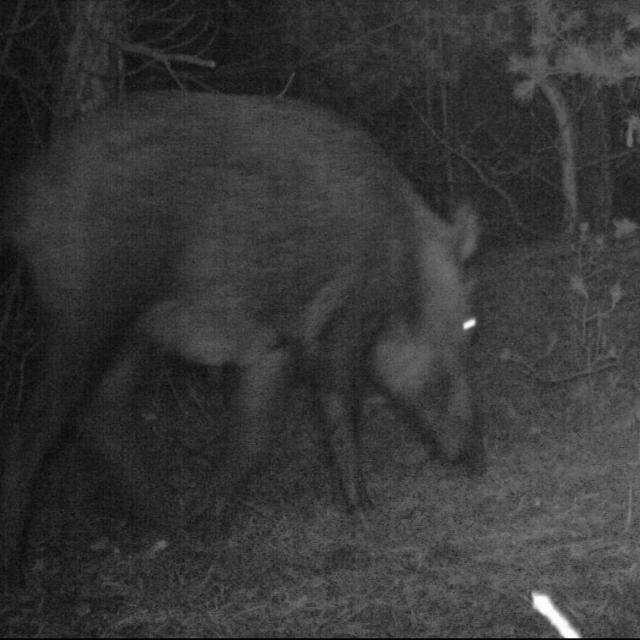pig: (0, 47, 529, 530)
